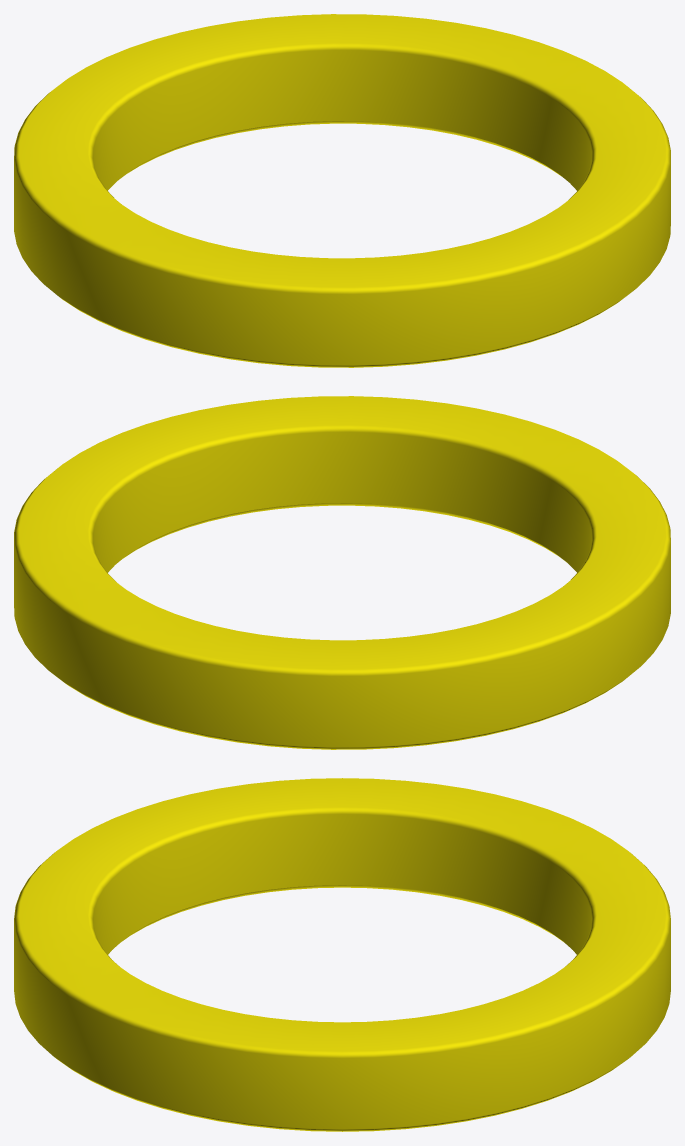
3 renders of one model, top to bottom at view 1: azimuth 30°, elevation 25°; view 2: azimuth 150°, elevation 25°; view 3: azimuth 270°, elevation 25°, orthographic.
Visible parts, largest first — view 1: seal_body; view 2: seal_body; view 3: seal_body.
Boxes of the visible parts, x1=… form: seal_body: x1=14, y1=14, x2=670, y2=367; seal_body: x1=14, y1=396, x2=670, y2=749; seal_body: x1=14, y1=778, x2=670, y2=1131.
Bounding box in the file's own units: 0.0293 × 0.00396 × 0.0293.
